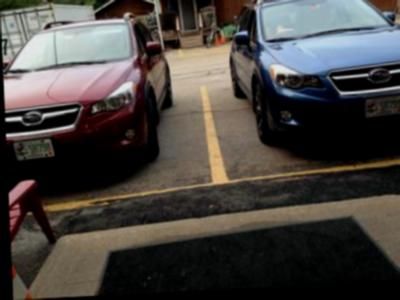License_Plate: (11, 141, 55, 161), (364, 96, 400, 116)
